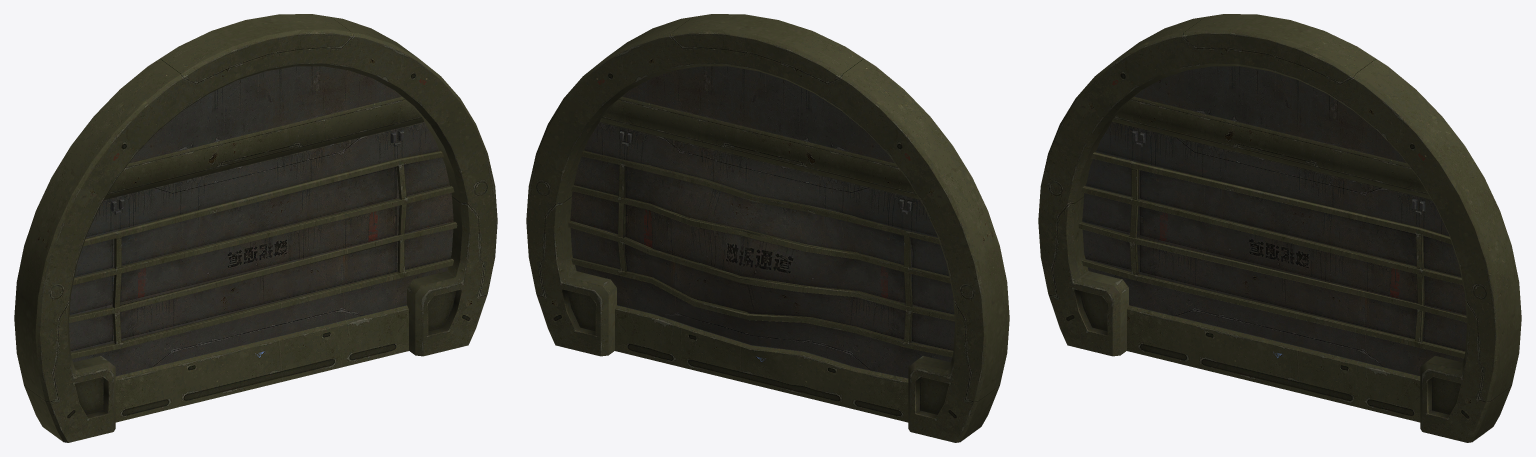
File: slidedoor_data_tunnel_damaged_01.DAE
3 views of the same model, side by side, from view 1: azimuth 30°, elevation 25°; view 2: azimuth 150°, elevation 25°; view 3: azimuth 330°, elevation 25° (orthographic).
Parts seen in each view (by area): view 1: slidedoor_data_tunnel_damaged_01; view 2: slidedoor_data_tunnel_damaged_01; view 3: slidedoor_data_tunnel_damaged_01.
Part boxes in pixels (x1,y1,x2,y2): slidedoor_data_tunnel_damaged_01: (14, 14, 497, 442); slidedoor_data_tunnel_damaged_01: (526, 14, 1009, 442); slidedoor_data_tunnel_damaged_01: (1038, 14, 1521, 442).
Size of the model in its own units: 15.89 by 1.8 by 11.74.
